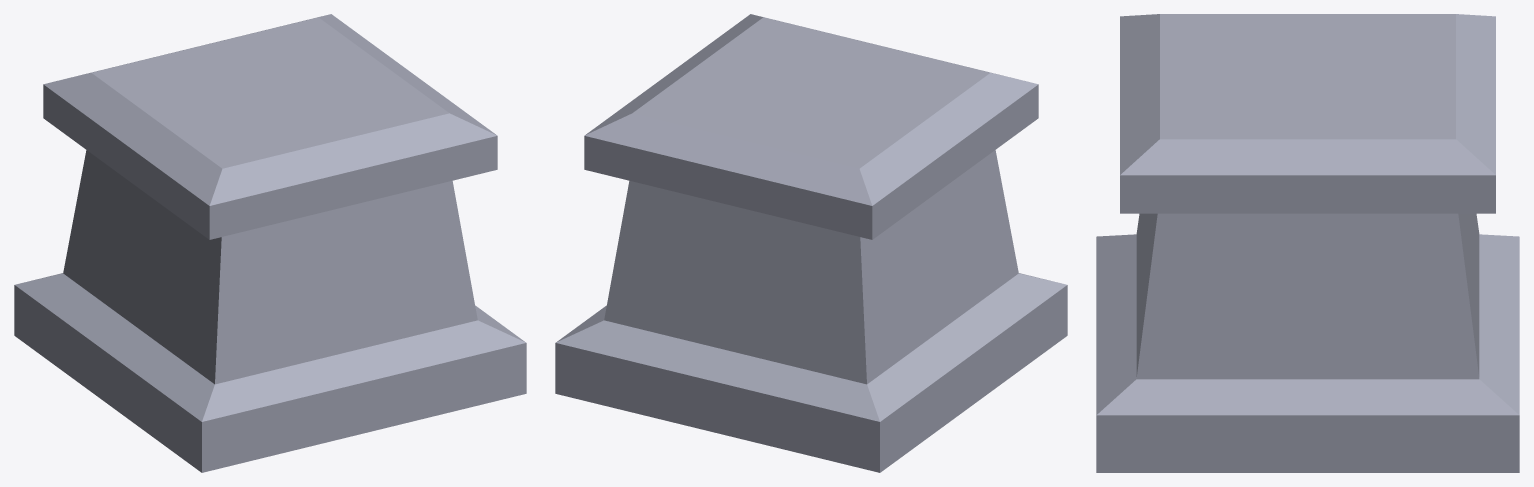
Rendered from Statue_Base_Small.fbx.
The picture shows the model from 3 angles, left to right: view 1: azimuth 30°, elevation 25°; view 2: azimuth 150°, elevation 25°; view 3: azimuth 270°, elevation 25°; orthographic projection. The views are drawn at different scales.
Parts seen in each view (by area): view 1: Statue Base Small; view 2: Statue Base Small; view 3: Statue Base Small.
Boxes of the visible parts, x1,y1,x2,y2 form: Statue Base Small: (14,14,526,472); Statue Base Small: (555,14,1067,472); Statue Base Small: (1096,14,1519,472).
Bounding box in the file's own units: 200 × 160 × 200.
